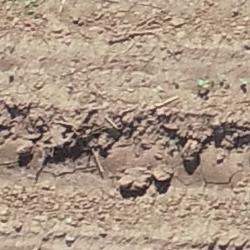cotton: (198, 79, 206, 86), (240, 81, 246, 85)
